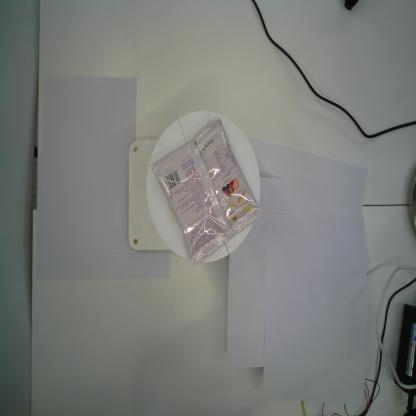Instant Drink: (150, 119, 262, 268)
